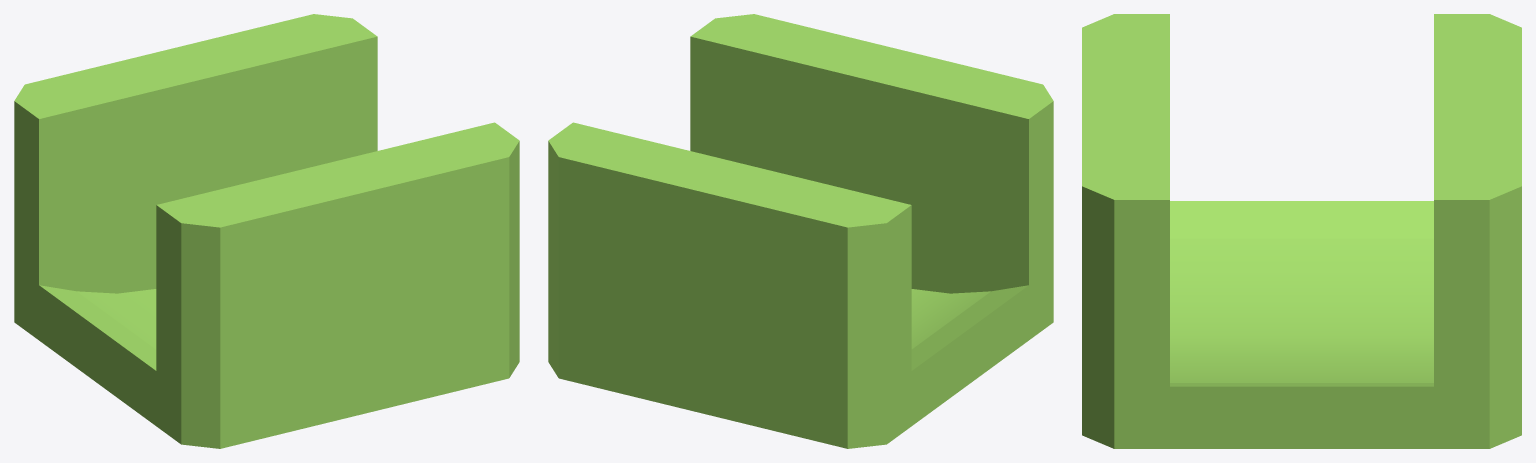
Rendered from TURRET_Y.dae.
3 views of the same model, side by side, from view 1: azimuth 30°, elevation 25°; view 2: azimuth 150°, elevation 25°; view 3: azimuth 270°, elevation 25° (orthographic). The views are drawn at different scales.
Visible parts, largest first — view 1: TURRET_Y.001; view 2: TURRET_Y.001; view 3: TURRET_Y.001.
Boxes of the visible parts, left/top/right/bottom form: TURRET_Y.001: left=14, top=14, right=519, bottom=448; TURRET_Y.001: left=548, top=14, right=1053, bottom=448; TURRET_Y.001: left=1082, top=14, right=1521, bottom=448.
Size of the model in its own units: 0.2 by 0.2 by 0.125.
